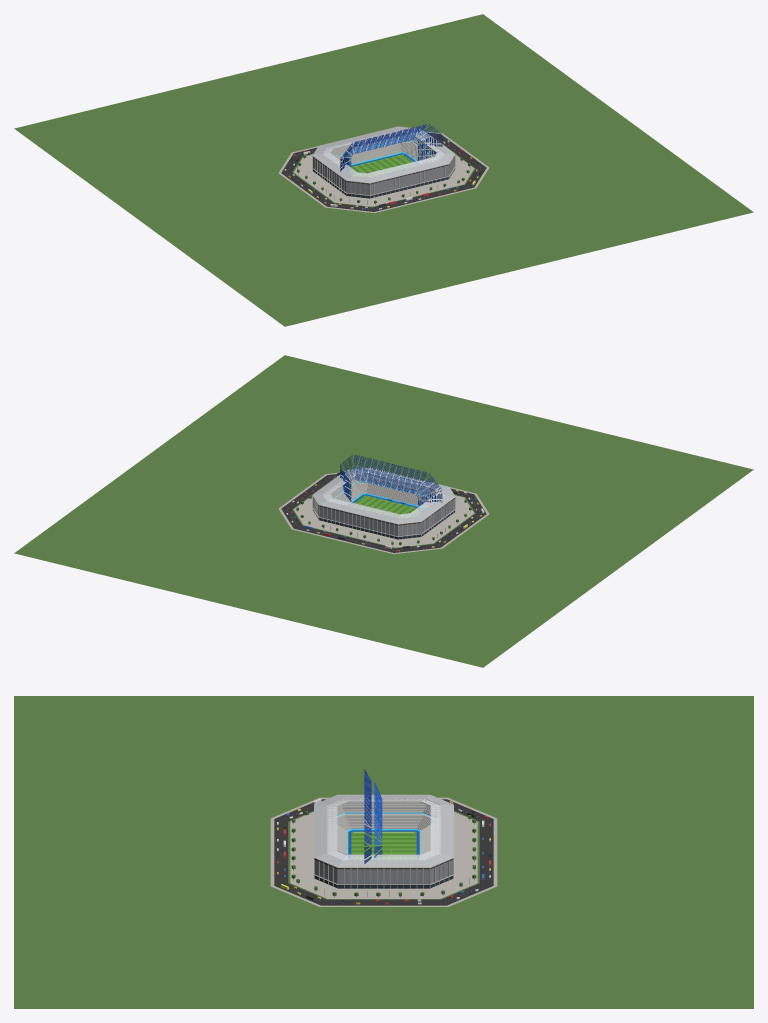
The model's file is Stadium.fbx.
3 views of the same model, one above another, from view 1: azimuth 30°, elevation 25°; view 2: azimuth 150°, elevation 25°; view 3: azimuth 270°, elevation 25° (orthographic). The views are drawn at different scales.
Visible parts, largest first — view 1: Site_Ground, Roof_Structure, Facade, Bowl_Structure, Roof_Canopy, Pitch, Site_Props; view 2: Site_Ground, Roof_Structure, Facade, Bowl_Structure, Roof_Canopy, Pitch, Seats_Lower_N_LOD0, Seats_Upper_N_LOD0, Site_Props; view 3: Site_Ground, Roof_Structure, Bowl_Structure, Facade, Roof_Canopy, Pitch, Site_Props.
Part boxes in pixels (<box>): Site_Ground: <box>14,14,753,326</box>; Roof_Structure: <box>312,126,455,183</box>; Facade: <box>312,155,455,198</box>; Bowl_Structure: <box>325,130,442,165</box>; Roof_Canopy: <box>323,129,444,177</box>; Pitch: <box>350,153,419,177</box>; Site_Props: <box>284,136,482,209</box>; Site_Ground: <box>14,355,753,667</box>; Roof_Structure: <box>312,467,455,524</box>; Facade: <box>312,496,455,539</box>; Bowl_Structure: <box>325,472,440,506</box>; Roof_Canopy: <box>323,471,444,518</box>; Pitch: <box>348,494,420,518</box>; Seats_Lower_N_LOD0: <box>352,465,421,493</box>; Seats_Upper_N_LOD0: <box>353,454,428,481</box>; Site_Props: <box>286,472,484,551</box>; Site_Ground: <box>14,696,753,1008</box>; Roof_Structure: <box>314,794,453,867</box>; Bowl_Structure: <box>327,799,440,859</box>; Facade: <box>313,821,454,888</box>; Roof_Canopy: <box>327,798,440,860</box>; Pitch: <box>348,830,419,859</box>; Site_Props: <box>277,799,491,904</box>.
Size of what is drawn, in the model's own units: 840 by 146 by 840.
Materials: 6 (1 with a texture image).
